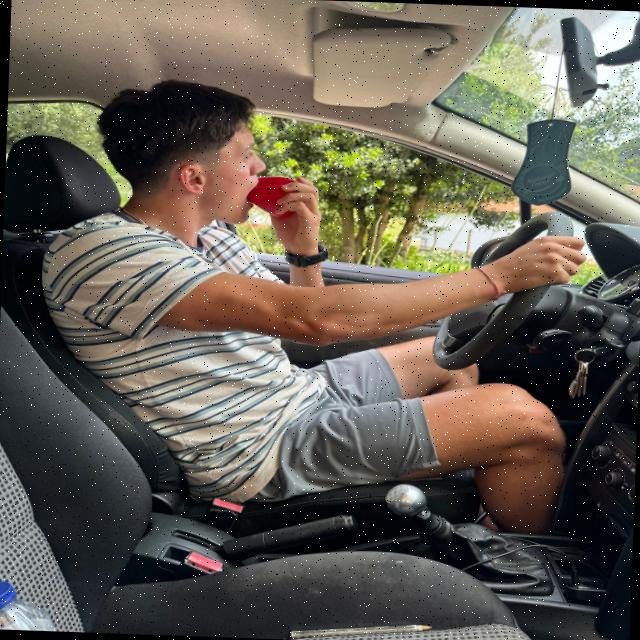Eating: (232, 157, 329, 257)
